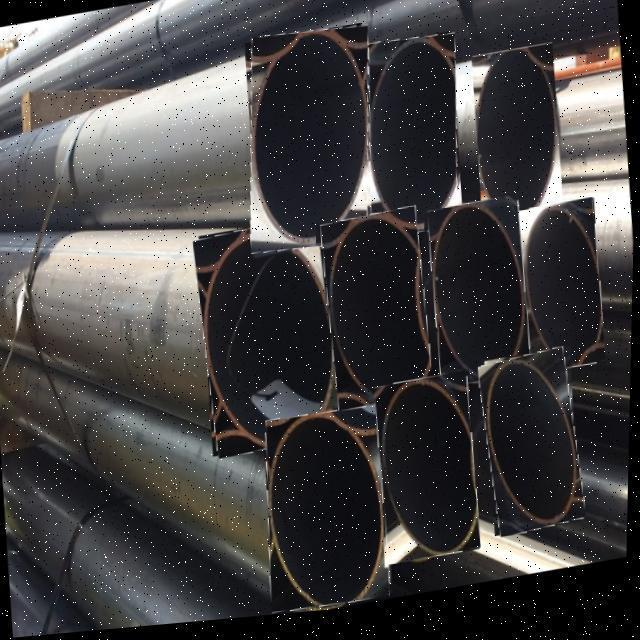pipe: (194, 217, 351, 462), (252, 32, 368, 258), (268, 411, 392, 617), (321, 214, 435, 421), (376, 380, 483, 572), (480, 357, 588, 546), (428, 204, 533, 396), (370, 41, 459, 244), (473, 52, 565, 238), (520, 209, 607, 384)
